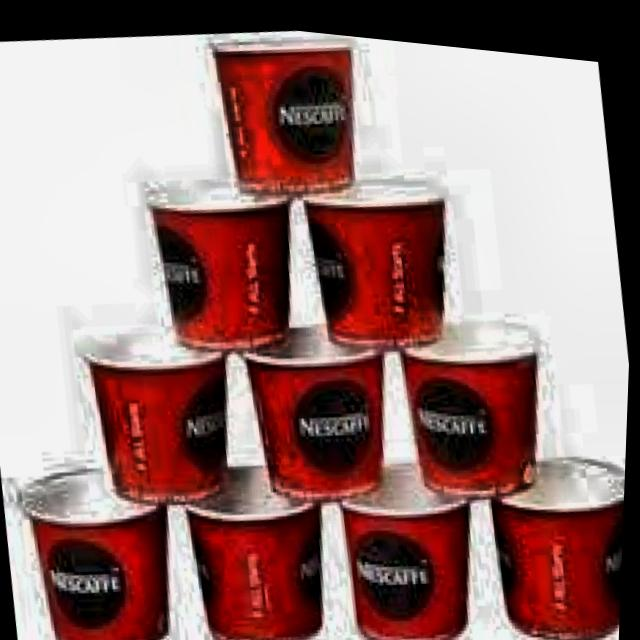Cup: (227, 298, 404, 518), (2, 438, 188, 640), (390, 294, 563, 506), (75, 318, 247, 525), (141, 164, 313, 367), (174, 447, 351, 640), (333, 438, 502, 640), (204, 17, 370, 206), (296, 156, 452, 354), (485, 430, 629, 640)
